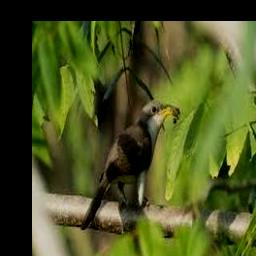Cuckoo: (80, 101, 178, 230)
